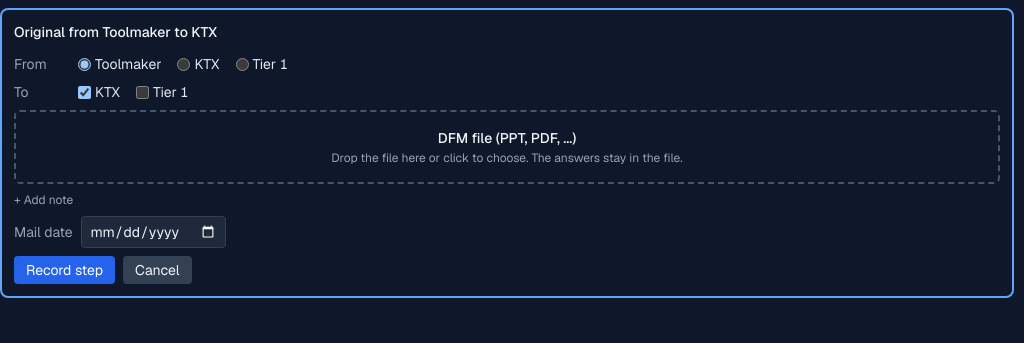
Scenario: DfmEntryForm › requires the DFM file or a note
Later steps or results of the test are not shown.
Click the button with test id "dfm-submit": x=65, y=270 14,256 -> 115,284
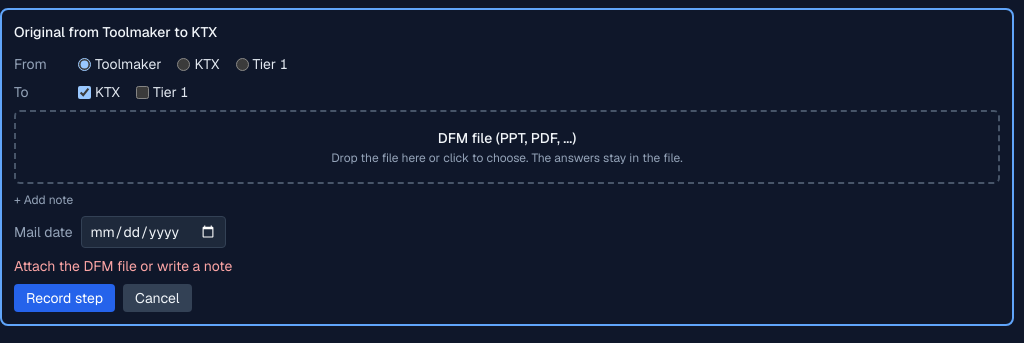
expect the message with test id "dfm-form-error" reads "Attach the DFM file or write a note": met, box 14,257 -> 232,275
